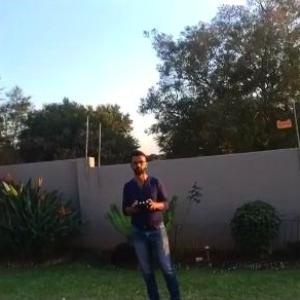follow: (118, 143, 188, 299)
